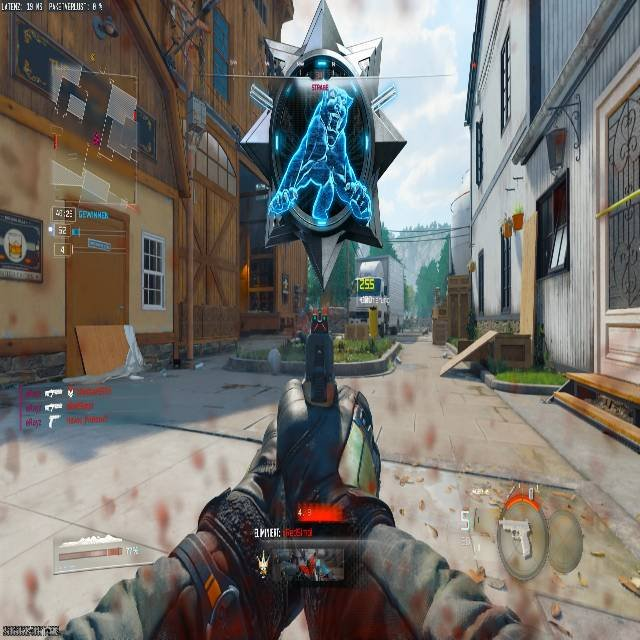player: (300, 310, 334, 388), (310, 314, 321, 332)
